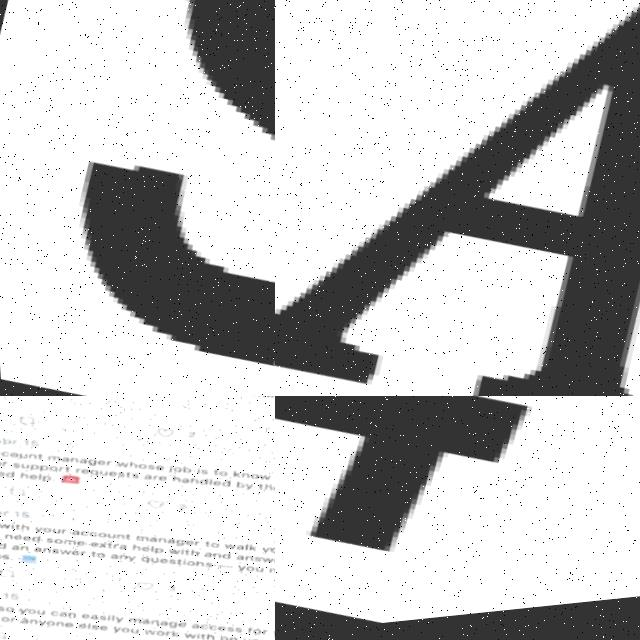1: (23, 441, 36, 453), (12, 512, 24, 524), (1, 595, 13, 605)
A: (275, 0, 640, 396)
S: (8, 0, 275, 396)
